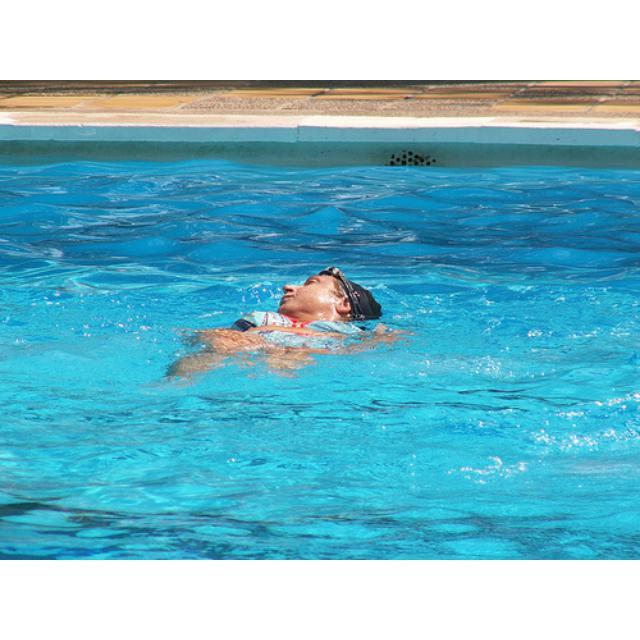human: (170, 268, 391, 381)
